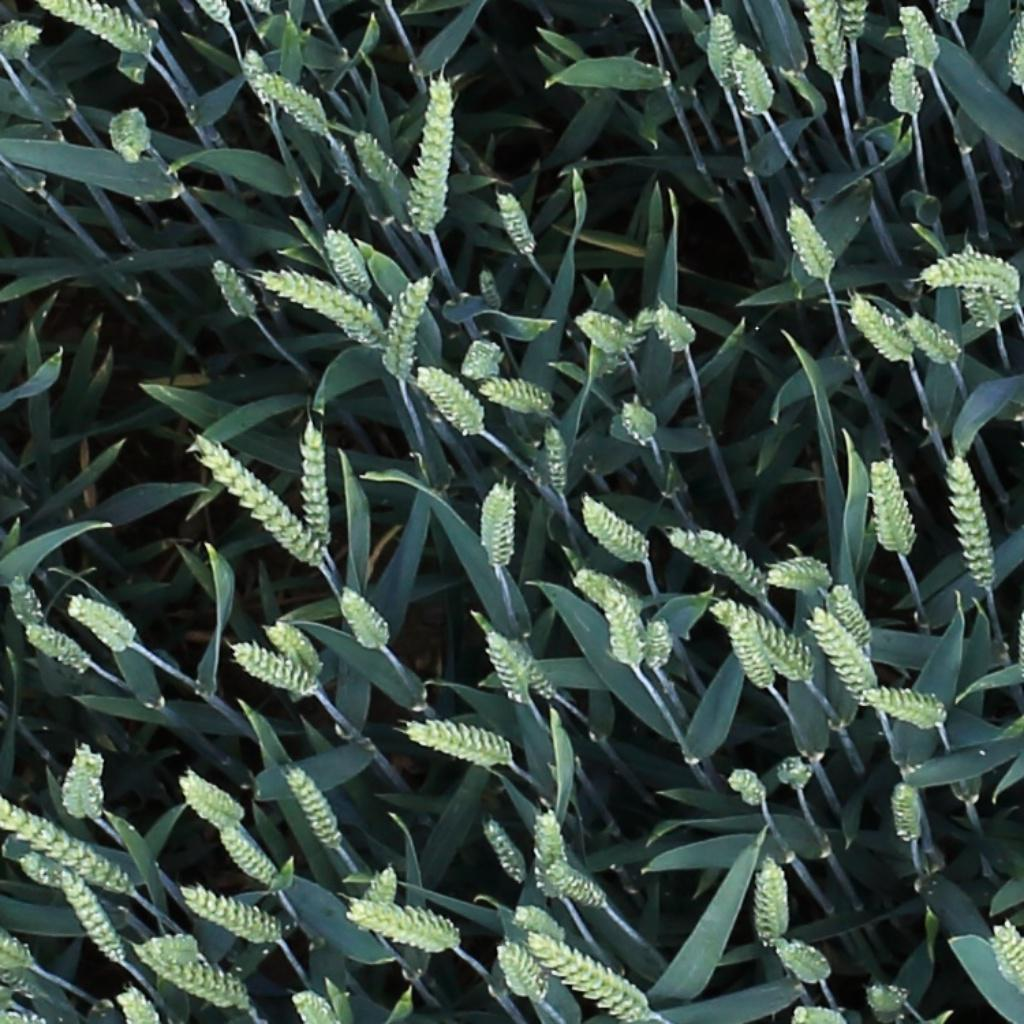0-0: (192, 434, 324, 566), (0, 798, 132, 895), (531, 940, 676, 1024), (137, 930, 256, 1005), (711, 598, 816, 682), (262, 270, 385, 341), (53, 861, 131, 970), (811, 602, 879, 708), (375, 268, 435, 382), (948, 454, 996, 595), (418, 75, 458, 237), (697, 524, 774, 604), (283, 764, 346, 856), (864, 452, 916, 559), (344, 899, 456, 948), (582, 572, 648, 653), (46, 1, 148, 51), (417, 364, 487, 436), (184, 890, 279, 943), (57, 736, 112, 827), (498, 628, 561, 707), (582, 494, 652, 565), (474, 477, 526, 571), (850, 292, 918, 363), (594, 305, 661, 376), (914, 245, 1019, 289), (406, 724, 516, 764), (481, 628, 535, 709), (727, 617, 780, 699), (787, 199, 838, 283), (574, 569, 649, 626), (322, 221, 376, 300), (600, 581, 644, 674), (480, 816, 533, 892), (233, 645, 315, 693), (218, 826, 279, 890), (207, 251, 262, 320), (338, 584, 391, 655), (863, 683, 950, 725), (301, 421, 330, 547), (495, 182, 542, 259), (764, 550, 843, 595), (258, 75, 327, 126), (831, 580, 879, 653), (267, 619, 327, 677), (68, 598, 135, 649), (808, 0, 849, 83), (498, 939, 550, 1004), (181, 776, 247, 827), (899, 0, 942, 75), (350, 122, 398, 189), (735, 40, 776, 118), (698, 6, 737, 85), (24, 616, 90, 661), (906, 312, 962, 365), (669, 528, 733, 574), (5, 570, 47, 636), (238, 43, 277, 114), (761, 856, 790, 951), (536, 808, 565, 903), (548, 868, 610, 912), (883, 47, 924, 113), (989, 918, 1022, 996), (965, 279, 1006, 339), (778, 942, 834, 983), (618, 395, 662, 447), (543, 421, 572, 499), (653, 301, 700, 349), (895, 778, 925, 851), (481, 380, 554, 409), (114, 99, 148, 161), (513, 909, 567, 946), (368, 860, 401, 920), (576, 312, 628, 350), (475, 260, 509, 318), (117, 981, 158, 1024), (0, 913, 31, 968), (647, 614, 673, 677), (290, 989, 335, 1024), (461, 341, 503, 378), (730, 771, 770, 809), (0, 23, 38, 57), (842, 0, 869, 47), (199, 0, 236, 31), (793, 1004, 846, 1024), (937, 0, 966, 30), (0, 1014, 43, 1024)
